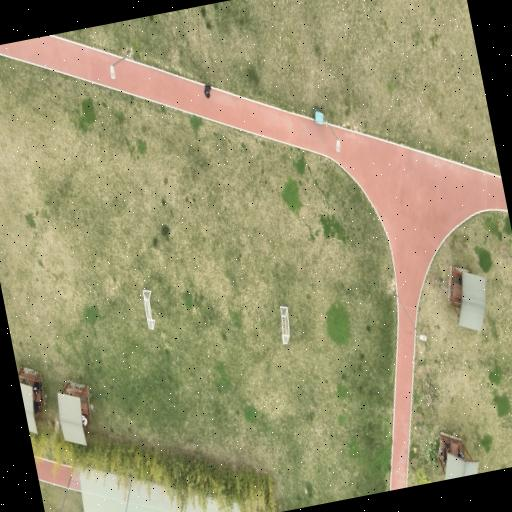person: (32, 381, 40, 396), (203, 83, 210, 97), (33, 401, 40, 413), (81, 414, 87, 426), (442, 448, 446, 464), (456, 450, 463, 457)
